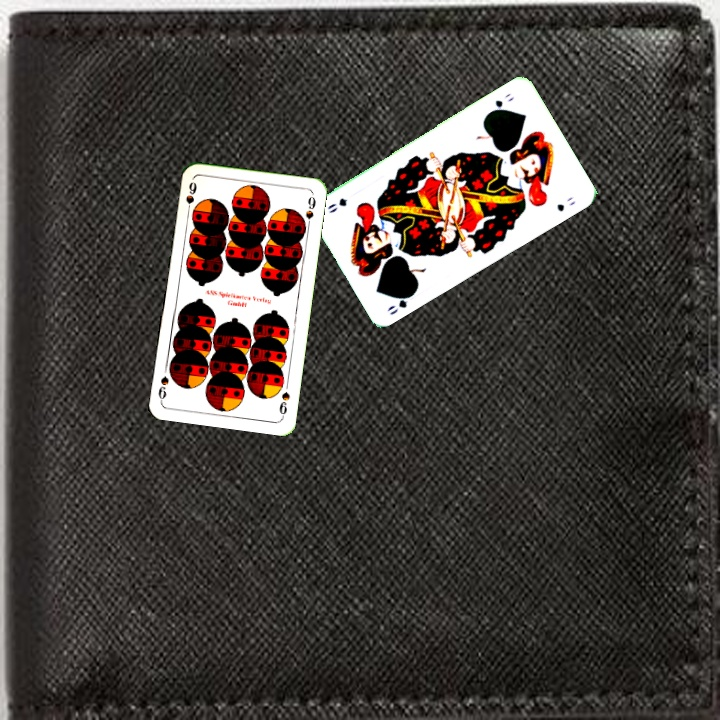GO: (383, 287, 418, 318), (485, 89, 517, 116)
S9: (182, 178, 199, 217), (275, 388, 292, 420)
